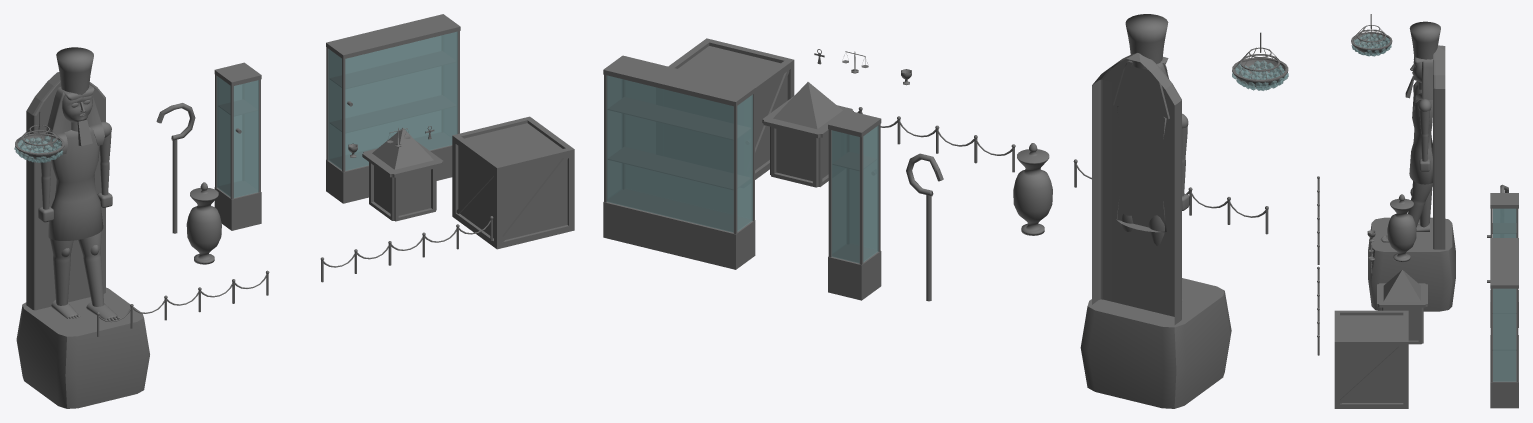
The model's file is EgiptDecor.fbx.
The picture shows the model from 3 angles, left to right: view 1: azimuth 30°, elevation 25°; view 2: azimuth 150°, elevation 25°; view 3: azimuth 270°, elevation 25°; orthographic projection. The views are drawn at different scales.
Visible parts, largest first — view 1: Statue, Door (×2), Box, BigShelfStorage, ShelfStorage, Pedistal2, Bowl, Fence1, Shelf1, Shelf, LightMuseum, Piramide (+1 smaller); view 2: Statue, BigShelfStorage, ShelfStorage, Box, Pedistal2, Bowl, Shelf1, Shelf, LightMuseum, Piramide, Fence1, Staff; view 3: Statue, Box, BigShelfStorage, Bowl, ShelfStorage, Pedistal2, LightMuseum, Piramide, Shelf1, Shelf (×2), Fence1.
Part boxes in pixels (x1,y1,x2,y2): Statue: (16, 47, 149, 408); Door (×2): (233, 31, 457, 197); Box: (452, 116, 574, 249); BigShelfStorage: (326, 14, 460, 203); ShelfStorage: (214, 62, 261, 230); Pedistal2: (362, 141, 443, 221); Bowl: (186, 182, 221, 264); Fence1: (96, 216, 493, 336); Shelf1: (330, 95, 455, 132); Shelf: (330, 51, 455, 88); LightMuseum: (14, 112, 64, 162); Piramide: (372, 128, 433, 169); Statue: (1080, 14, 1231, 408); BigShelfStorage: (603, 55, 755, 269); ShelfStorage: (828, 110, 881, 300); Box: (668, 38, 794, 179); Pedistal2: (762, 96, 853, 187); Bowl: (1013, 143, 1052, 235); Shelf1: (608, 147, 750, 189); Shelf: (608, 97, 750, 139); LightMuseum: (1232, 32, 1288, 90); Piramide: (773, 82, 842, 129); Fence1: (857, 107, 1268, 234); Staff: (906, 153, 943, 301); Statue: (1368, 21, 1455, 311); Box: (1334, 310, 1408, 408); BigShelfStorage: (1490, 238, 1518, 408); Bowl: (1387, 194, 1416, 262); ShelfStorage: (1490, 193, 1518, 327); Pedistal2: (1377, 283, 1427, 344); LightMuseum: (1351, 14, 1392, 56); Piramide: (1383, 269, 1420, 301); Shelf1: (1492, 314, 1516, 350); Shelf (×2): (1492, 223, 1516, 313); Fence1: (1317, 176, 1319, 355).
Bounding box in the file's own units: 0.1919 × 0.1107 × 0.0759.
